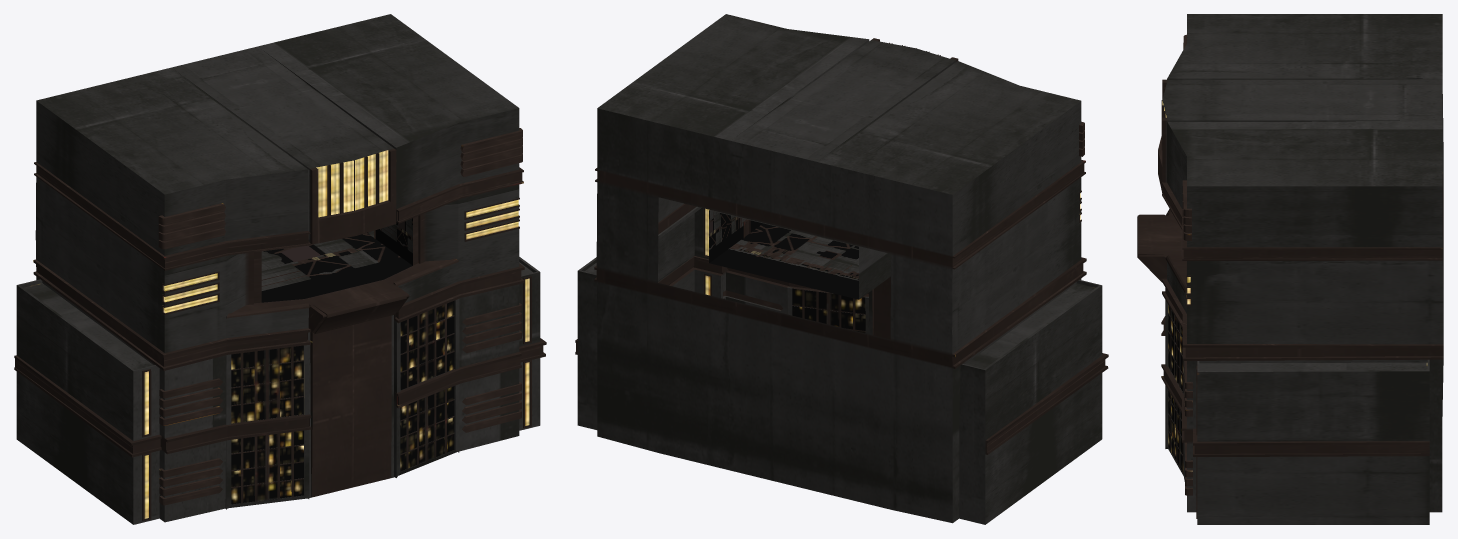
File: Predio4.fbx
The picture shows the model from 3 angles, left to right: view 1: azimuth 30°, elevation 25°; view 2: azimuth 150°, elevation 25°; view 3: azimuth 270°, elevation 25°; orthographic projection.
Visible parts, largest first — view 1: Cube.002; view 2: Cube.002; view 3: Cube.002.
Boxes of the visible parts, <box> form: Cube.002: <box>14,14,546,524</box>; Cube.002: <box>575,14,1108,524</box>; Cube.002: <box>1137,14,1443,524</box>.
Bounding box in the file's own units: 41765 × 31692 × 26843.
Materials: 3 (3 with a texture image).
